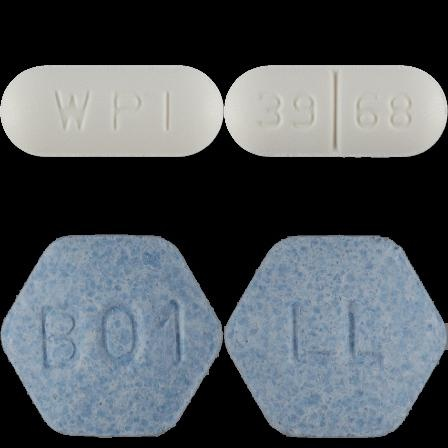63187-317: (0, 0, 224, 224)
